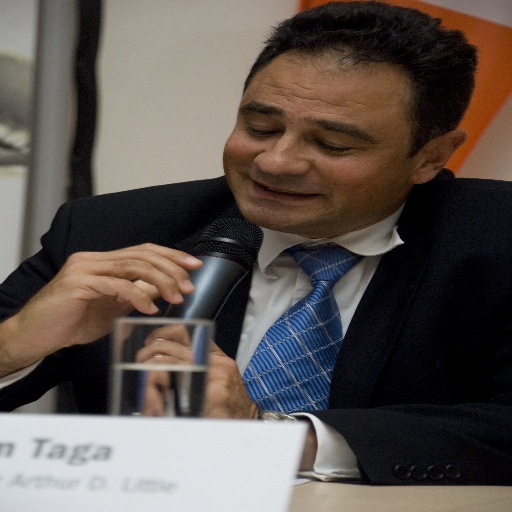hand: (27, 241, 215, 379), (132, 322, 261, 421)
